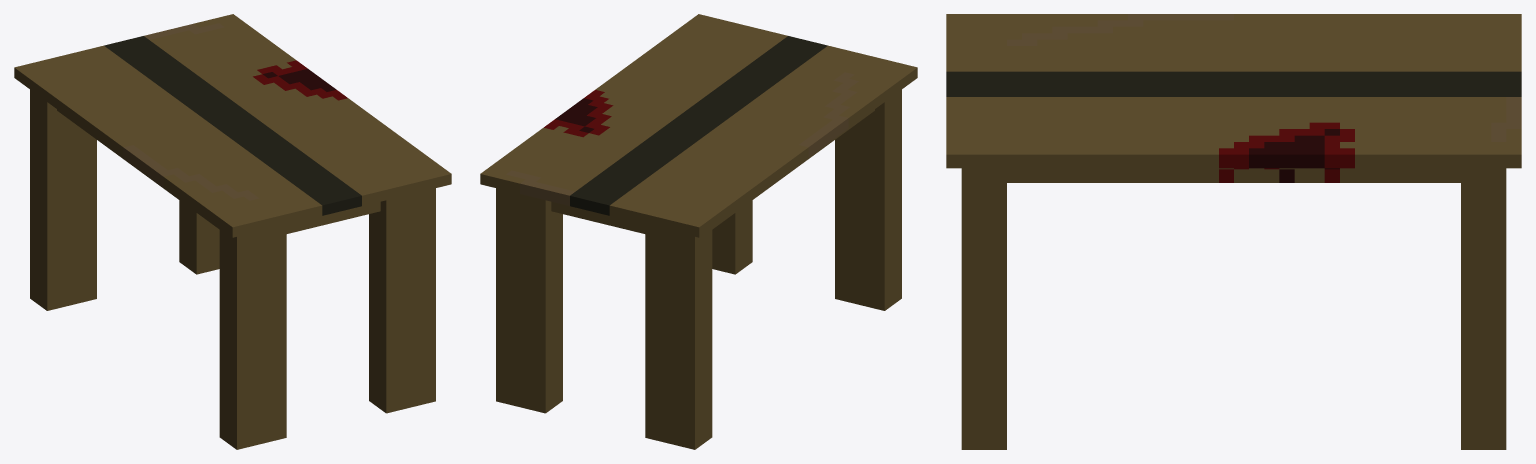
File: Table1(Well-Worn).obj
3 renders of one model, left to right at view 1: azimuth 30°, elevation 25°; view 2: azimuth 150°, elevation 25°; view 3: azimuth 270°, elevation 25°, orthographic. The views are drawn at different scales.
Bounding box in the file's own units: 2.2 × 2.2 × 3.8.
1 material, 1 textured.
